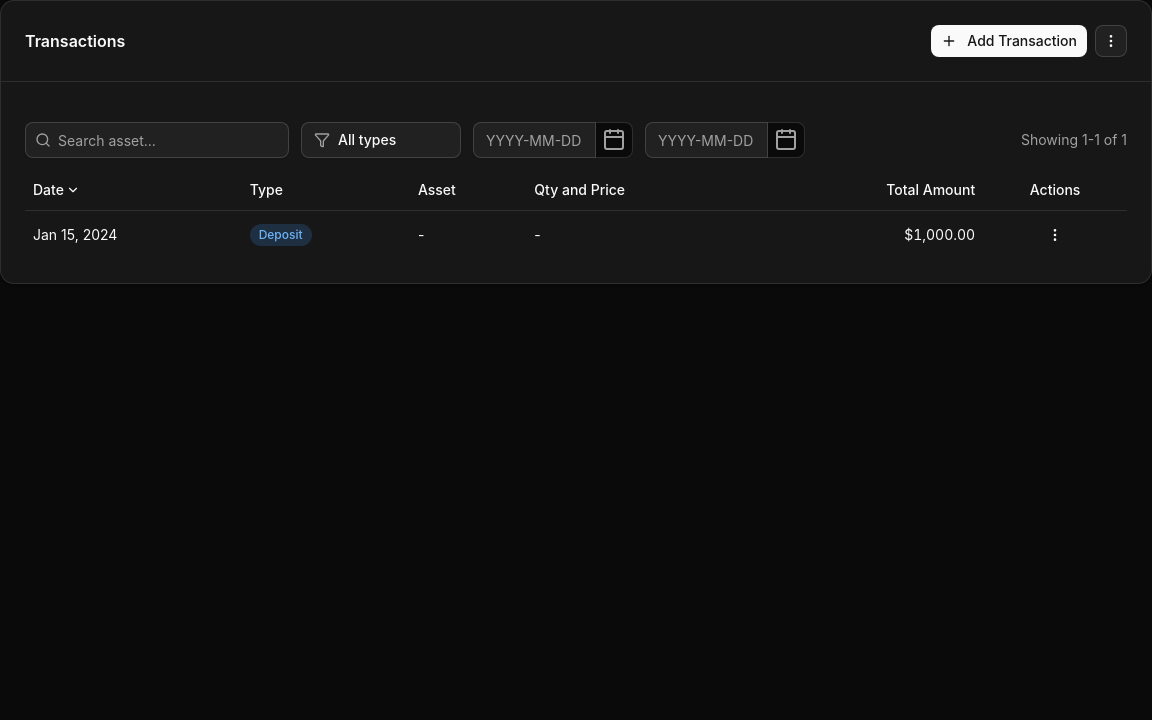
it: TransactionView › opens import CSV modal via actions menu
Note: Open actions menu
Click the button named "Transaction table actions menu": (1111,41) [1095, 25, 1127, 57]
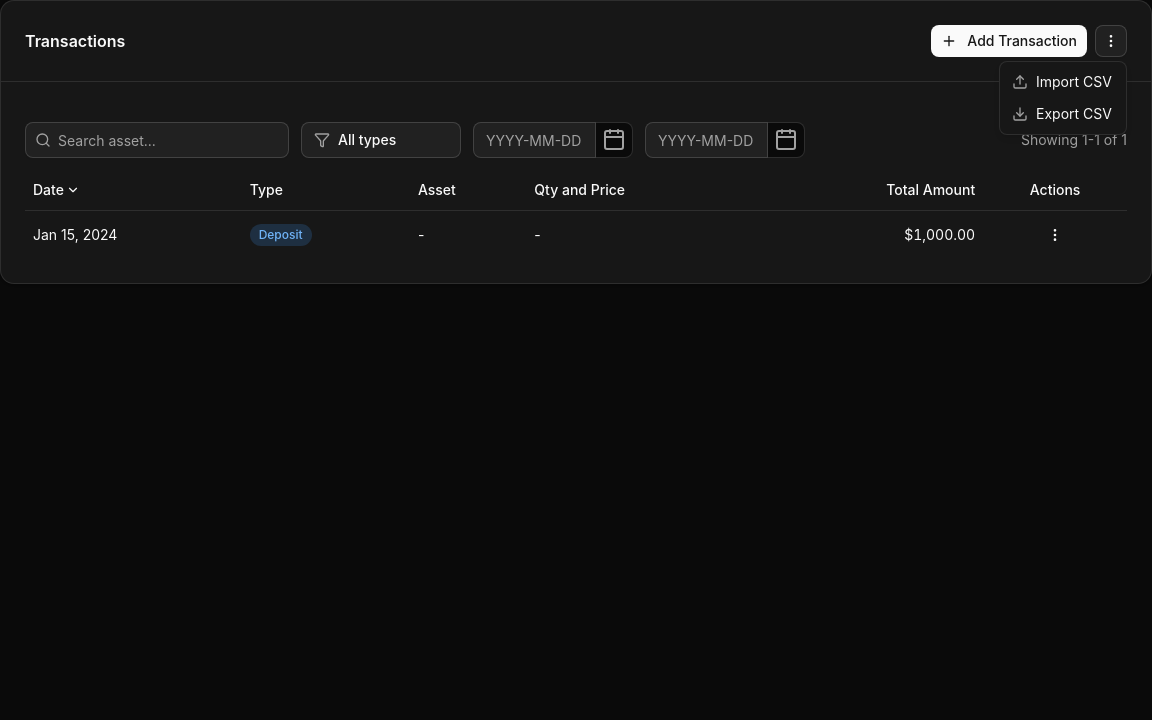
Note: Click Import CSV
Click the menu item "Import CSV": (1062,82) [1012, 73, 1112, 90]
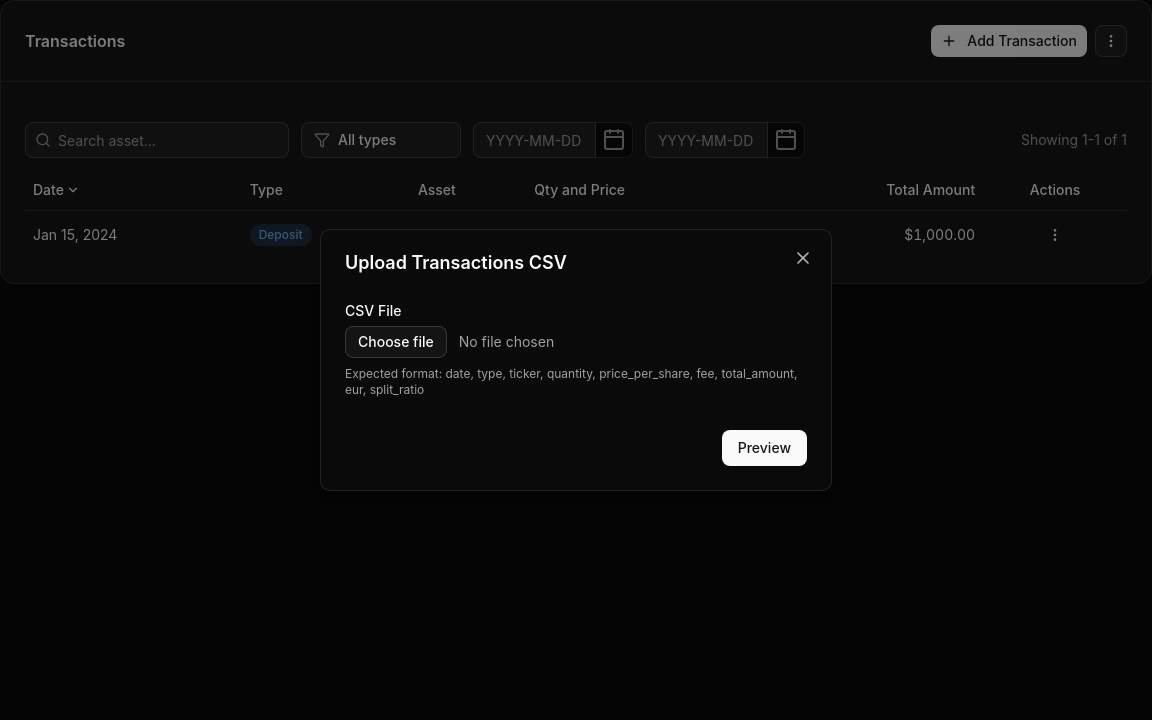
Check: the heading "Upload Transactions CSV" is shown, box [345, 252, 567, 273]
